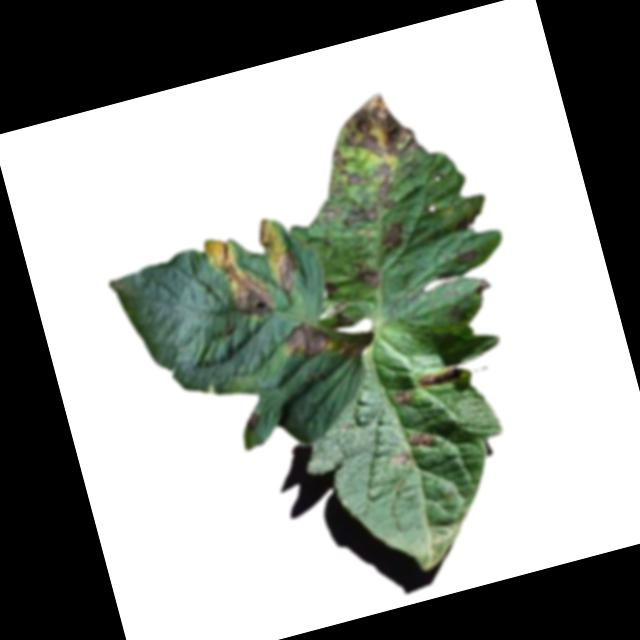Early_blight: (204, 231, 279, 330), (335, 86, 422, 170), (283, 318, 338, 363), (269, 250, 306, 298), (369, 160, 402, 212), (339, 193, 382, 230), (331, 146, 365, 190), (416, 364, 465, 394), (376, 219, 413, 258), (351, 259, 386, 292), (254, 216, 282, 253), (452, 242, 488, 267), (406, 428, 438, 454), (320, 200, 344, 228), (388, 387, 413, 412), (390, 450, 413, 469)
